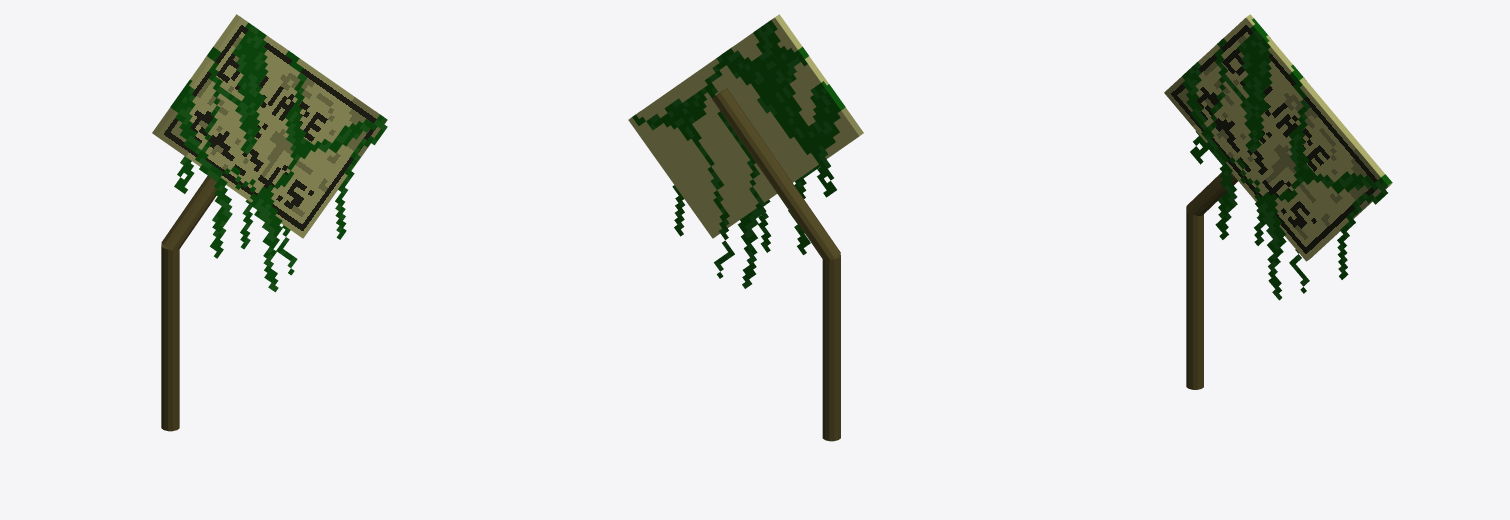
File: signage.gltf
The picture shows the model from 3 angles, left to right: view 1: azimuth 30°, elevation 25°; view 2: azimuth 150°, elevation 25°; view 3: azimuth 330°, elevation 25°; orthographic projection. The views are drawn at different scales.
Parts seen in each view (by area): view 1: cube (×2), cylinder (×2); view 2: cube (×2), cylinder (×2); view 3: cube (×2), cylinder (×2).
Part boxes in pixels (x1,y1,x2,y2): cube (×2): (152, 14, 387, 292); cylinder (×2): (161, 176, 217, 431); cube (×2): (628, 14, 863, 288); cylinder (×2): (712, 88, 840, 441); cube (×2): (1164, 14, 1392, 300); cylinder (×2): (1186, 172, 1237, 389).
Size of the model in its own units: 0.3755 by 0.3751 by 0.0188.
Materials: 3 (3 with a texture image).
